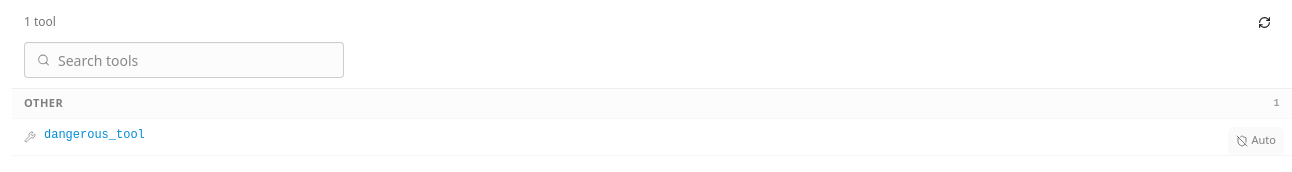
Test: ToolPanel › optimistically toggles confirmation and persists the update
The image size is (1292, 172).
Expected: the text "1 tool" is shown, [24,14,56,30]
Click the button titled "Auto-execute (click to require confirmation)" at (1256, 140), box [1228,126,1284,154]
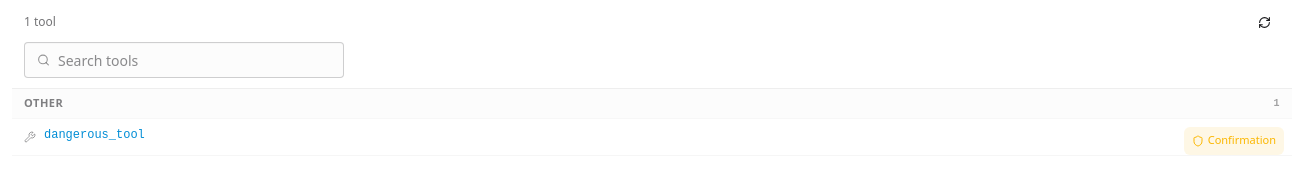
Result: the button titled "Requires confirmation (click to disable)" is shown at [1184,126,1284,154]
